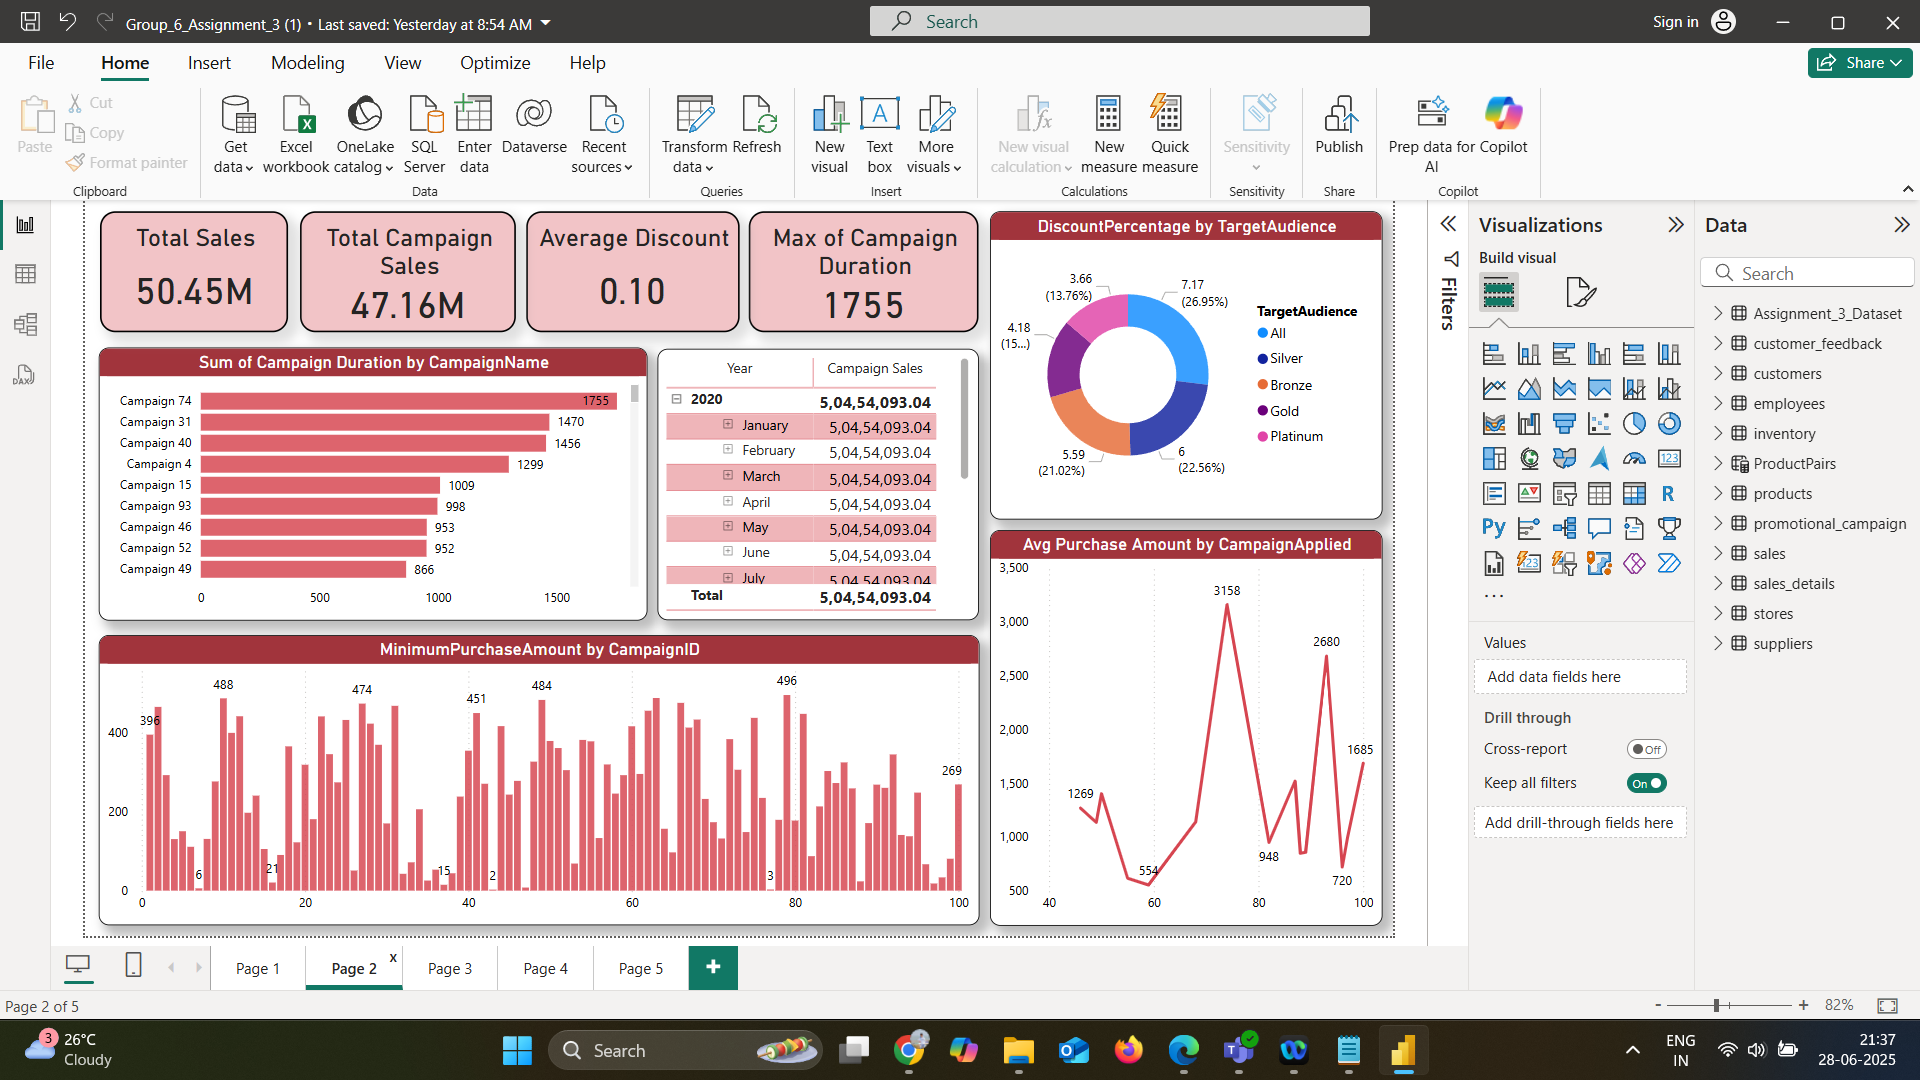

Layout of this report page (visuals, bound fields, positions):
{"tool":"powerbi","page":{"name":"Page 2","canvas":[1280,720],"ordinal":1},"visuals":[{"type":"card","title":"Max of Campaign Duration","fields":{"Values":["Max(promotional_campaign.Campaign Duration)"]},"box":[648.8,11.2,225,118.8],"z":0},{"type":"card","title":"Average Discount","fields":{"Values":["Avg(sales_details.Discount)"]},"box":[431.4,11.4,208.6,118.6],"z":1000},{"type":"card","title":"Total Campaign Sales","fields":{"Values":["sales_details.Total Campaign Sales"]},"box":[210,11.4,211.4,118.6],"z":2000},{"type":"clusteredBarChart","fields":{"Category":["promotional_campaign.CampaignName"],"Y":["Sum(promotional_campaign.Campaign Duration)"]},"box":[12.9,144.3,537.1,267.1],"z":3000},{"type":"pivotTable","fields":{"Rows":["promotional_campaign.StartDate.Variation.Date Hierarchy.Year","promotional_campaign.StartDate.Variation.Date Hierarchy.Month","promotional_campaign.StartDate.Variation.Date Hierarchy.Day"],"Values":["promotional_campaign.Campaign Sales"]},"box":[560,145.7,314.3,265.7],"z":4000},{"type":"clusteredColumnChart","title":"MinimumPurchaseAmount by CampaignID","fields":{"Y":["Sum(promotional_campaign.MinimumPurchaseAmount)"],"Category":["promotional_campaign.CampaignID"]},"box":[12.9,425.7,861.4,284.3],"z":5000},{"type":"donutChart","title":"DiscountPercentage by TargetAudience","fields":{"Category":["promotional_campaign.TargetAudience"],"Y":["Sum(promotional_campaign.DiscountPercentage)"]},"box":[885.7,11.4,384.3,301.4],"z":6000},{"type":"lineChart","fields":{"Y":["sales.Avg Purchase Amount"],"Category":["sales.CampaignApplied"]},"box":[885.7,322.9,384.3,387.1],"z":7000},{"type":"card","title":"Total Sales","fields":{"Values":["sales_details.Total Sales"]},"box":[14.3,11.4,184.3,118.6],"z":7001}]}

Visuals, with their boxes on the page's 1280x720 design canvas (x1, y1, x2, y2). These are canvas units, not pixel positions in the 1920x1080 screenshot, which may show the page scaled, cropped or inside an application window:
"Max of Campaign Duration" card: {"left": 649, "top": 11, "right": 874, "bottom": 130}
"Average Discount" card: {"left": 431, "top": 11, "right": 640, "bottom": 130}
"Total Campaign Sales" card: {"left": 210, "top": 11, "right": 421, "bottom": 130}
clusteredBarChart - promotional_campaign.CampaignName x Sum(promotional_campaign.Campaign Duration): {"left": 13, "top": 144, "right": 550, "bottom": 411}
pivotTable - promotional_campaign.StartDate.Variation.Date Hierarchy.Year x promotional_campaign.StartDate.Variation.Date Hierarchy.Month: {"left": 560, "top": 146, "right": 874, "bottom": 411}
"MinimumPurchaseAmount by CampaignID" clusteredColumnChart: {"left": 13, "top": 426, "right": 874, "bottom": 710}
"DiscountPercentage by TargetAudience" donutChart: {"left": 886, "top": 11, "right": 1270, "bottom": 313}
lineChart - sales.Avg Purchase Amount x sales.CampaignApplied: {"left": 886, "top": 323, "right": 1270, "bottom": 710}
"Total Sales" card: {"left": 14, "top": 11, "right": 199, "bottom": 130}
